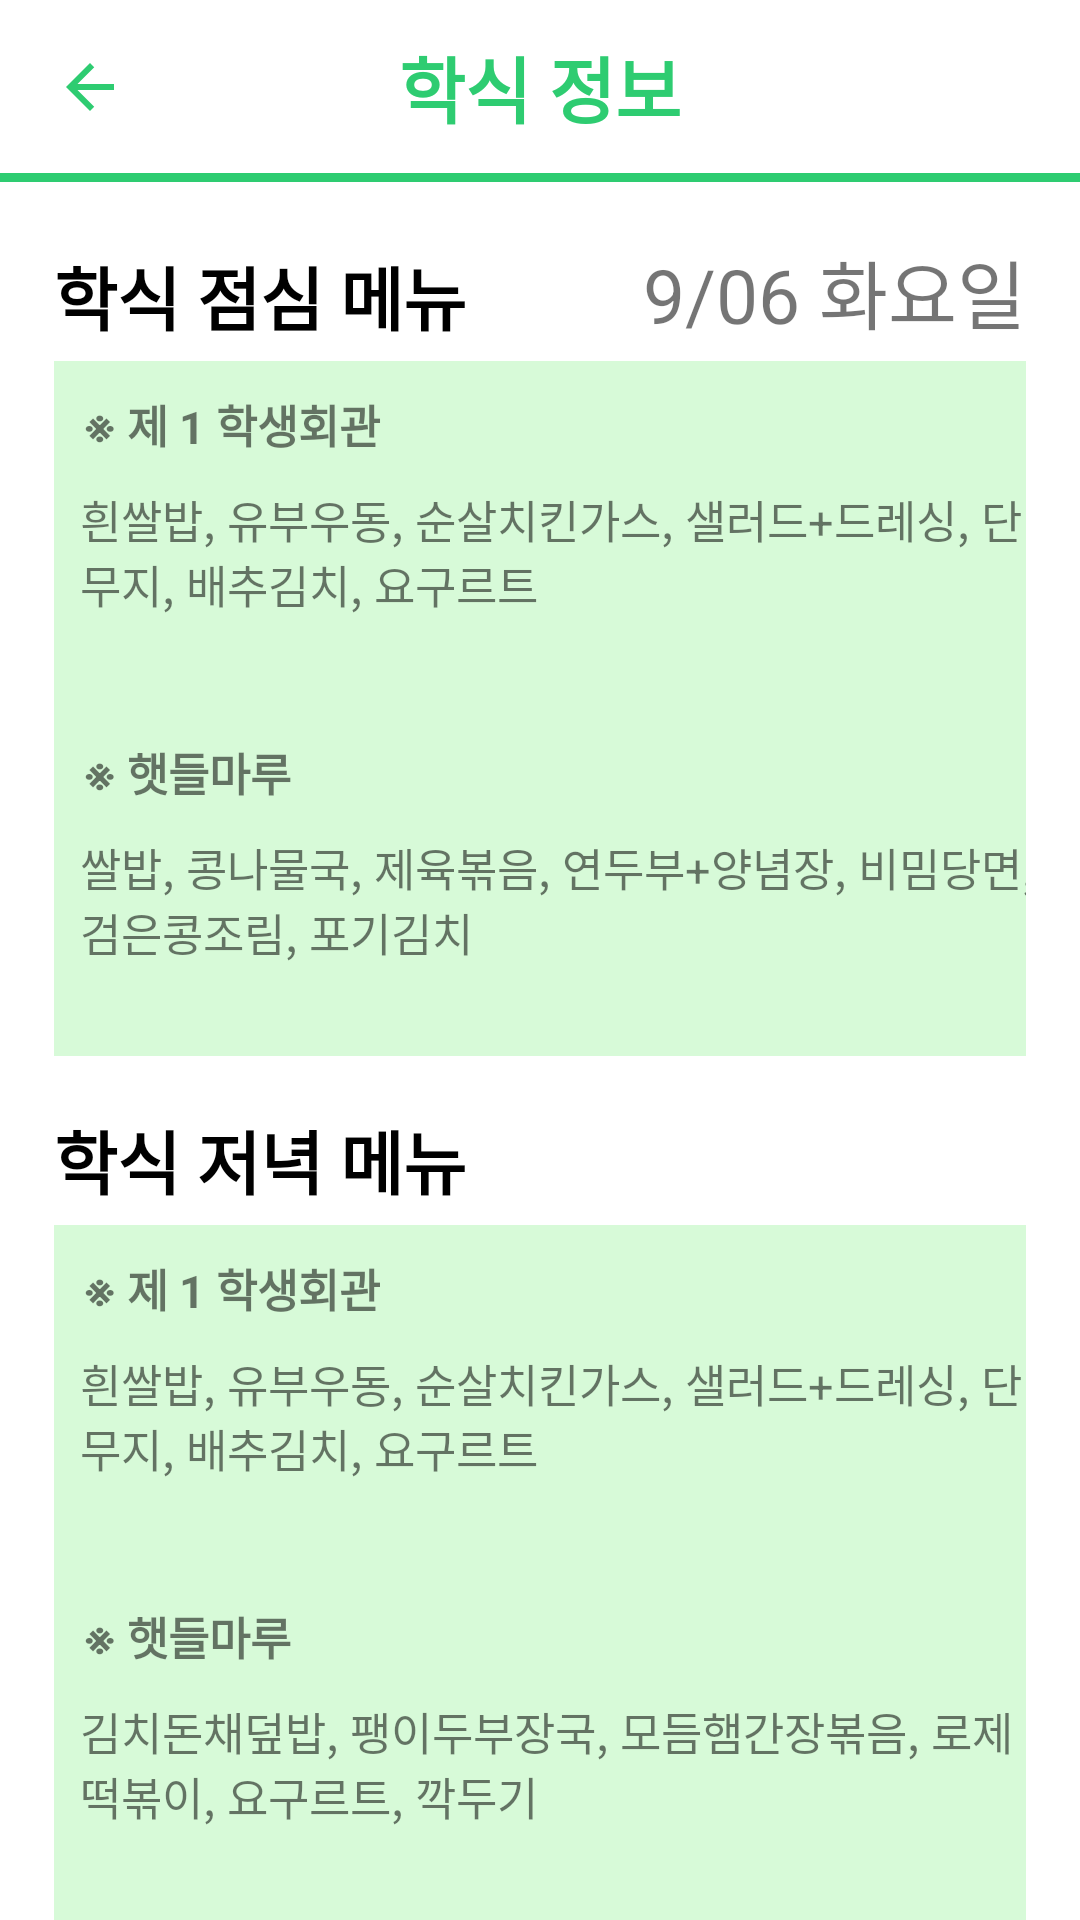

Locate icon controls on the screen. Image size 1080x1920, boxes as [x1, y1, x2, y2].
number back: [66, 63, 114, 111]
